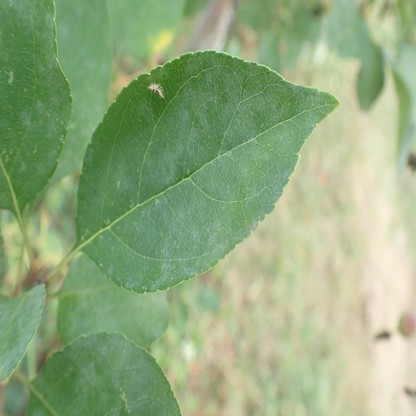powdery_mildew: (76, 48, 341, 296), (0, 0, 72, 213), (24, 331, 183, 416), (54, 0, 108, 167), (61, 258, 169, 340), (0, 284, 45, 379)
